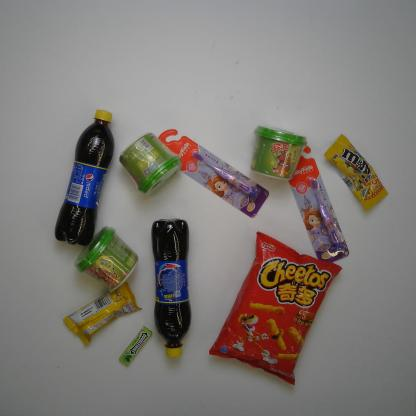Chocolate: (63, 281, 144, 348), (324, 132, 389, 212)
Drink: (54, 107, 115, 248), (150, 218, 192, 358)
Gum: (118, 324, 153, 367)
Instant Drink: (72, 225, 140, 293), (119, 131, 183, 197), (248, 124, 307, 182)
Personal Hygiene: (155, 128, 270, 219), (284, 143, 349, 264)
Puffed Food: (208, 230, 344, 387)
